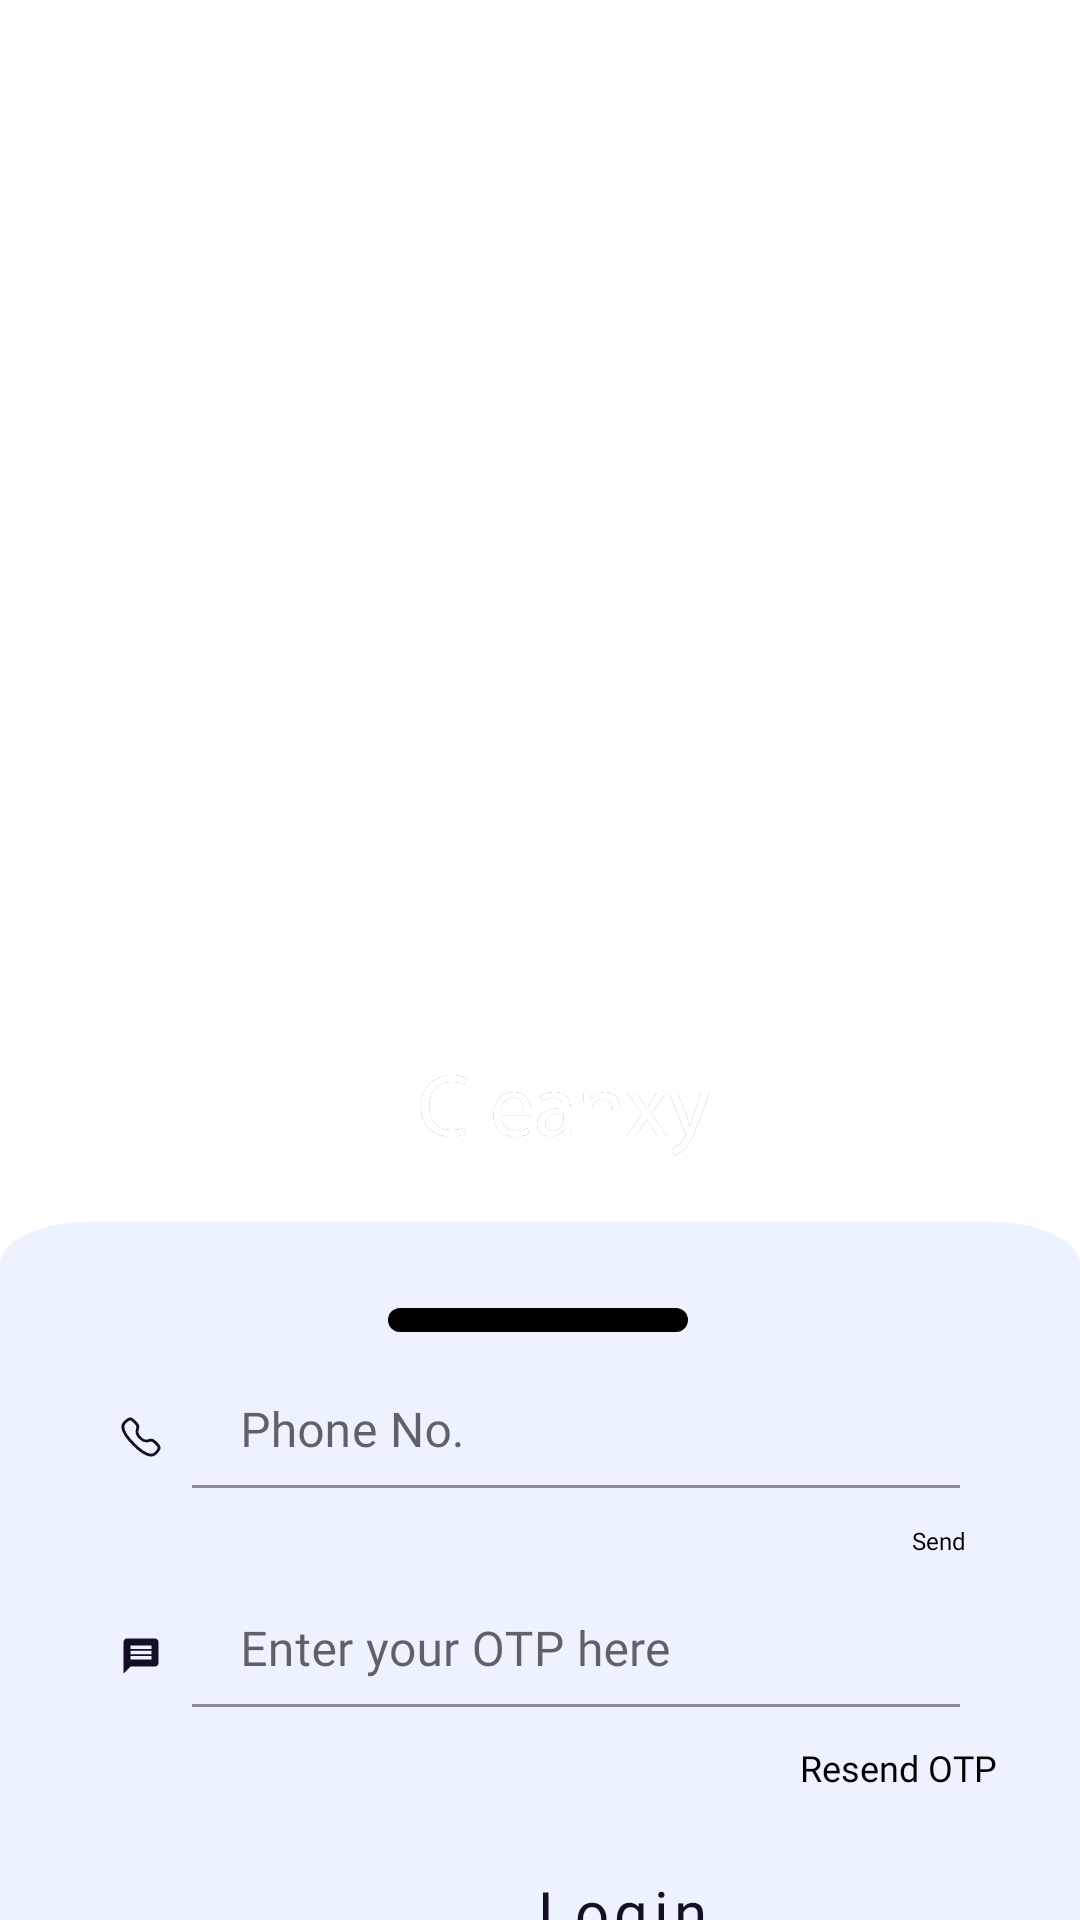

Screen size 1080x1920. Icon name, then its box in pixels as (x1, y1, x2, y2):
call: (121, 1417, 161, 1457)
